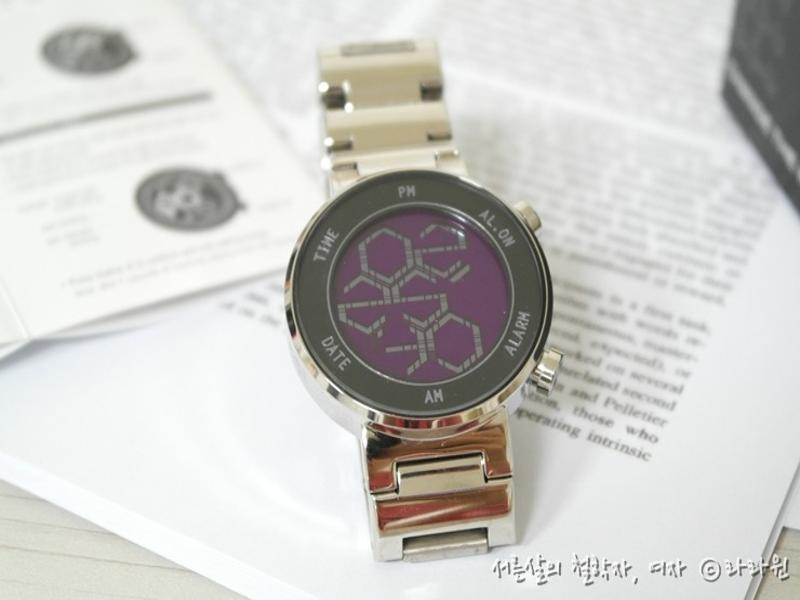watch: (282, 37, 567, 559)
